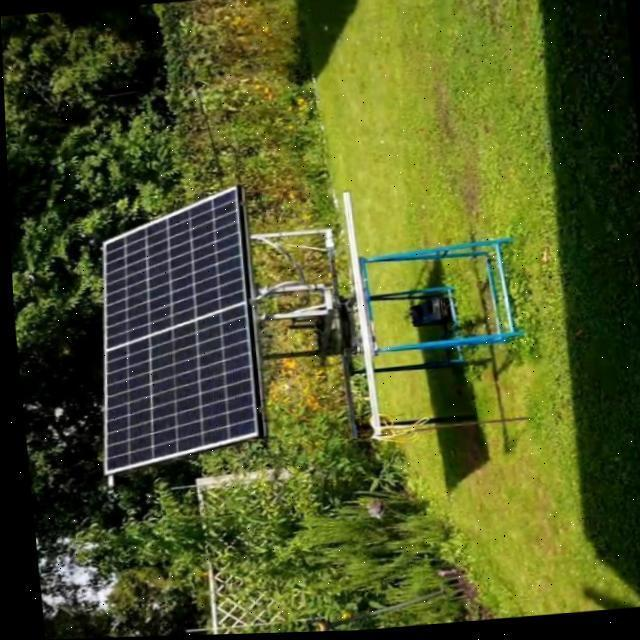Normal Solar Panel: (77, 189, 266, 477)
